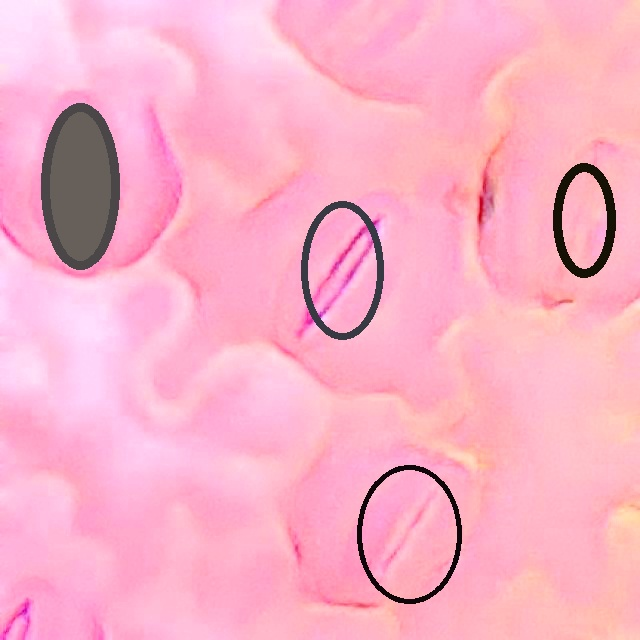close: (356, 463, 462, 604), (552, 162, 617, 279)
open: (41, 102, 119, 269), (300, 201, 383, 340)
